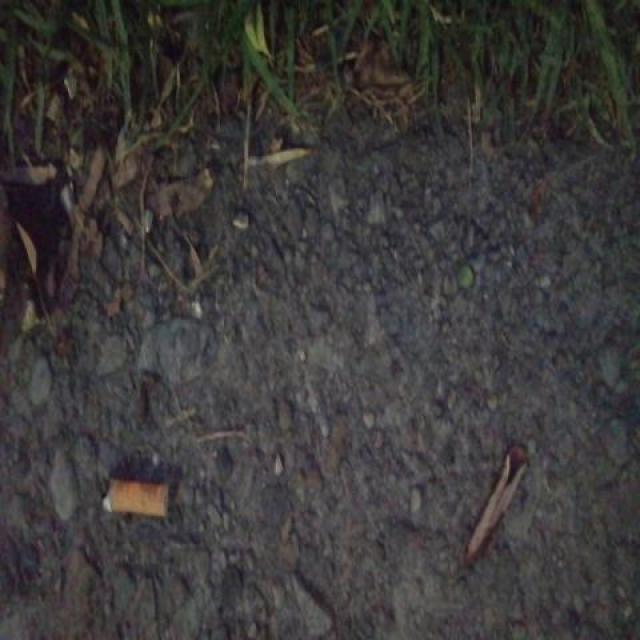non-organic waste: (95, 469, 173, 522)
